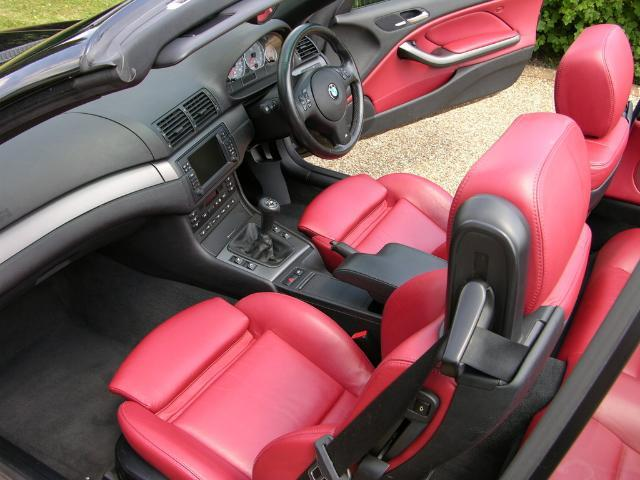Seatbelt: (296, 324, 534, 480)
